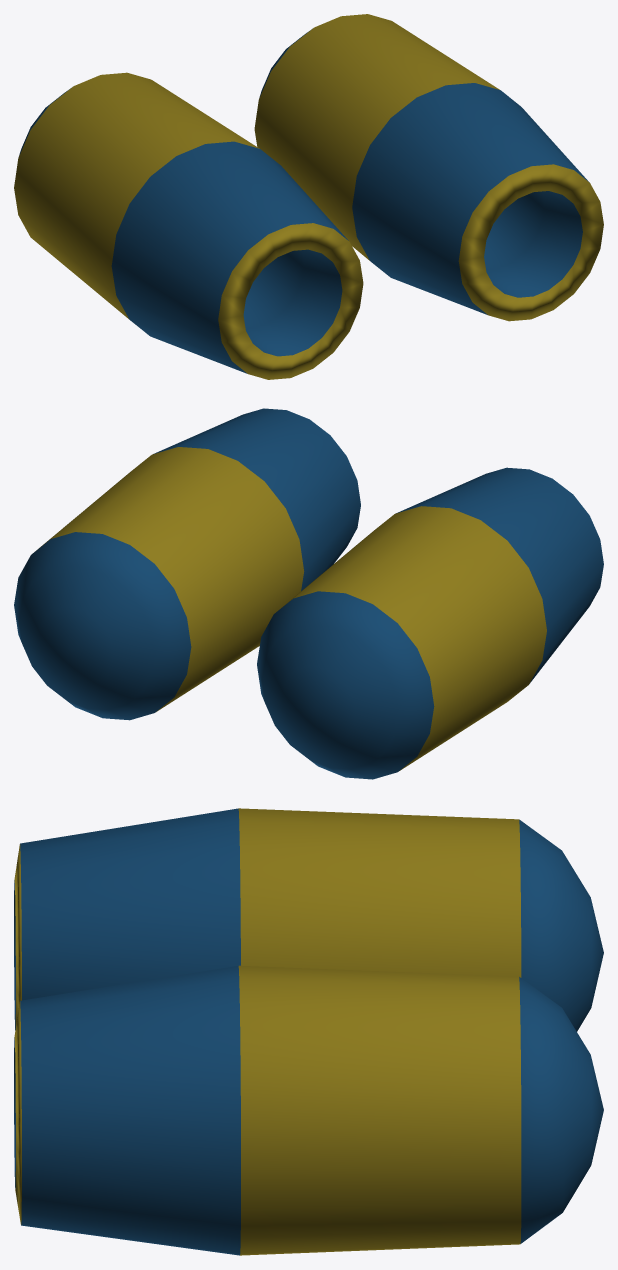
Rendered from ALLIANCEENGINE4.fbx.
3 renders of one model, top to bottom at view 1: azimuth 30°, elevation 25°; view 2: azimuth 150°, elevation 25°; view 3: azimuth 270°, elevation 25°, orthographic. The views are drawn at different scales.
Parts seen in each view (by area): view 1: pCylinder21; view 2: pCylinder21; view 3: pCylinder21.
Boxes of the visible parts, box(x1,y1,x2,y2) form: pCylinder21: box(14, 14, 603, 379); pCylinder21: box(14, 408, 603, 779); pCylinder21: box(14, 808, 603, 1255).
Bounding box in the file's own units: 7.04 × 3.09 × 6.25.
